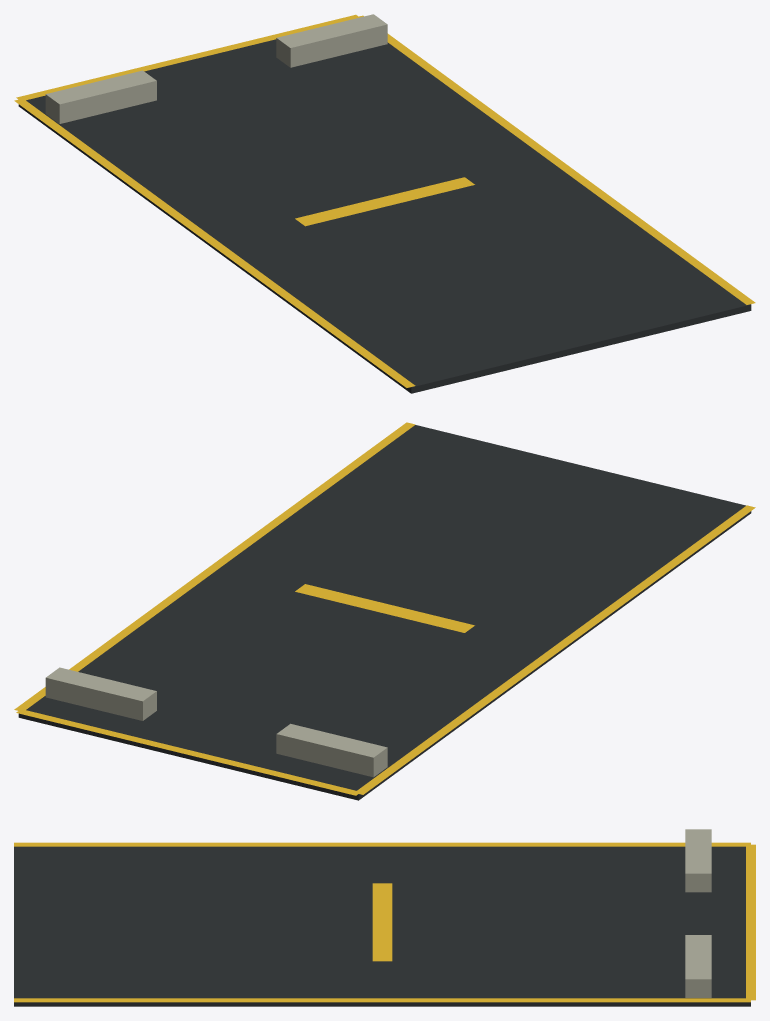
The model's file is PersonalPickupBay.obj.
3 views of the same model, one above another, from view 1: azimuth 30°, elevation 25°; view 2: azimuth 150°, elevation 25°; view 3: azimuth 270°, elevation 25° (orthographic). The views are drawn at different scales.
Parts seen in each view (by area): view 1: PersonalPickupBay; view 2: PersonalPickupBay; view 3: PersonalPickupBay.
Boxes of the visible parts, left/top/right/bottom form: PersonalPickupBay: left=14, top=14, right=755, bottom=393; PersonalPickupBay: left=14, top=422, right=755, bottom=800; PersonalPickupBay: left=14, top=829, right=755, bottom=1006.
Size of the model in its own units: 2.88 by 0.205 by 5.64.
